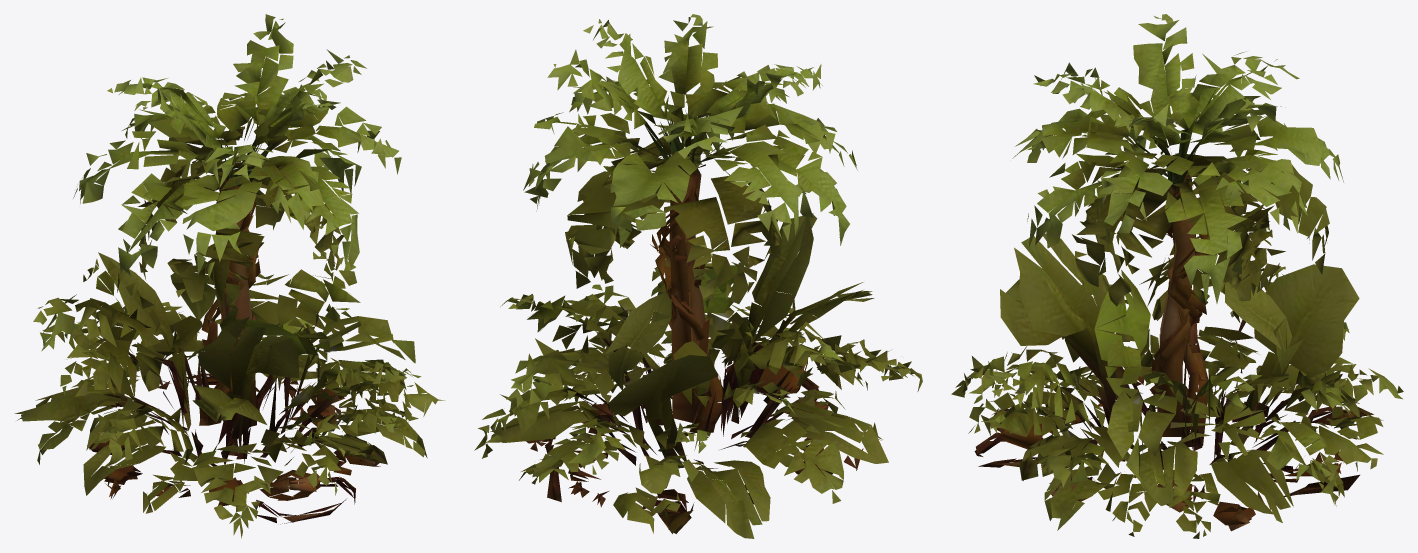
The model's file is jun_fern_cluster_low_LOD2.glb.
The picture shows the model from 3 angles, left to right: view 1: azimuth 30°, elevation 25°; view 2: azimuth 150°, elevation 25°; view 3: azimuth 270°, elevation 25°; orthographic projection. The views are drawn at different scales.
Visible parts, largest first — view 1: tripo_node_f26c364c-f640-4782-969d-d89758f2ef56; view 2: tripo_node_f26c364c-f640-4782-969d-d89758f2ef56; view 3: tripo_node_f26c364c-f640-4782-969d-d89758f2ef56.
Boxes of the visible parts, x1,y1,x2,y2 form: tripo_node_f26c364c-f640-4782-969d-d89758f2ef56: (14,14,444,538); tripo_node_f26c364c-f640-4782-969d-d89758f2ef56: (474,14,922,538); tripo_node_f26c364c-f640-4782-969d-d89758f2ef56: (951,14,1403,538).
Size of the model in its own units: 0.9172 by 1.02 by 1.01.
1 material, 1 textured.
